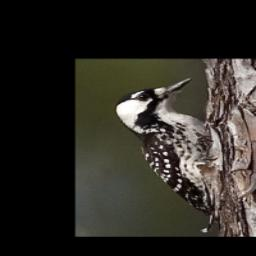Woodpecker: (111, 76, 224, 215)
